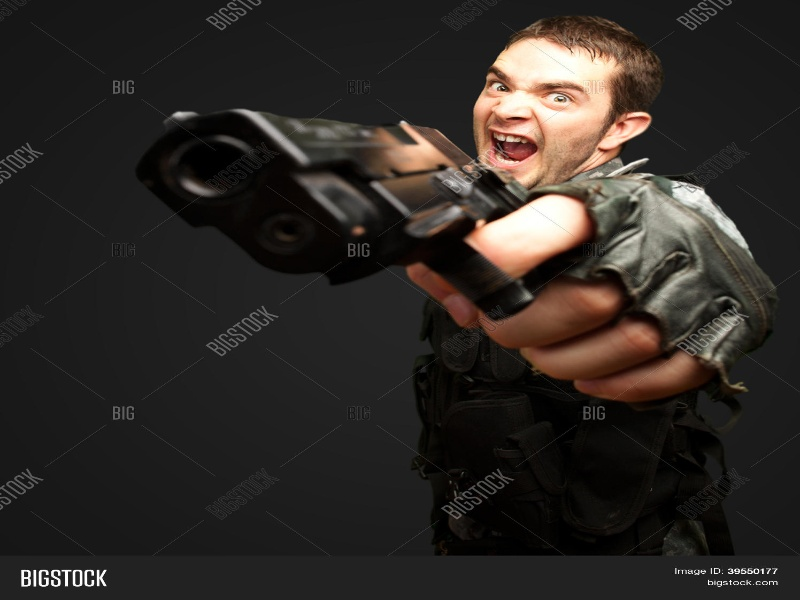gun: (137, 95, 613, 354)
